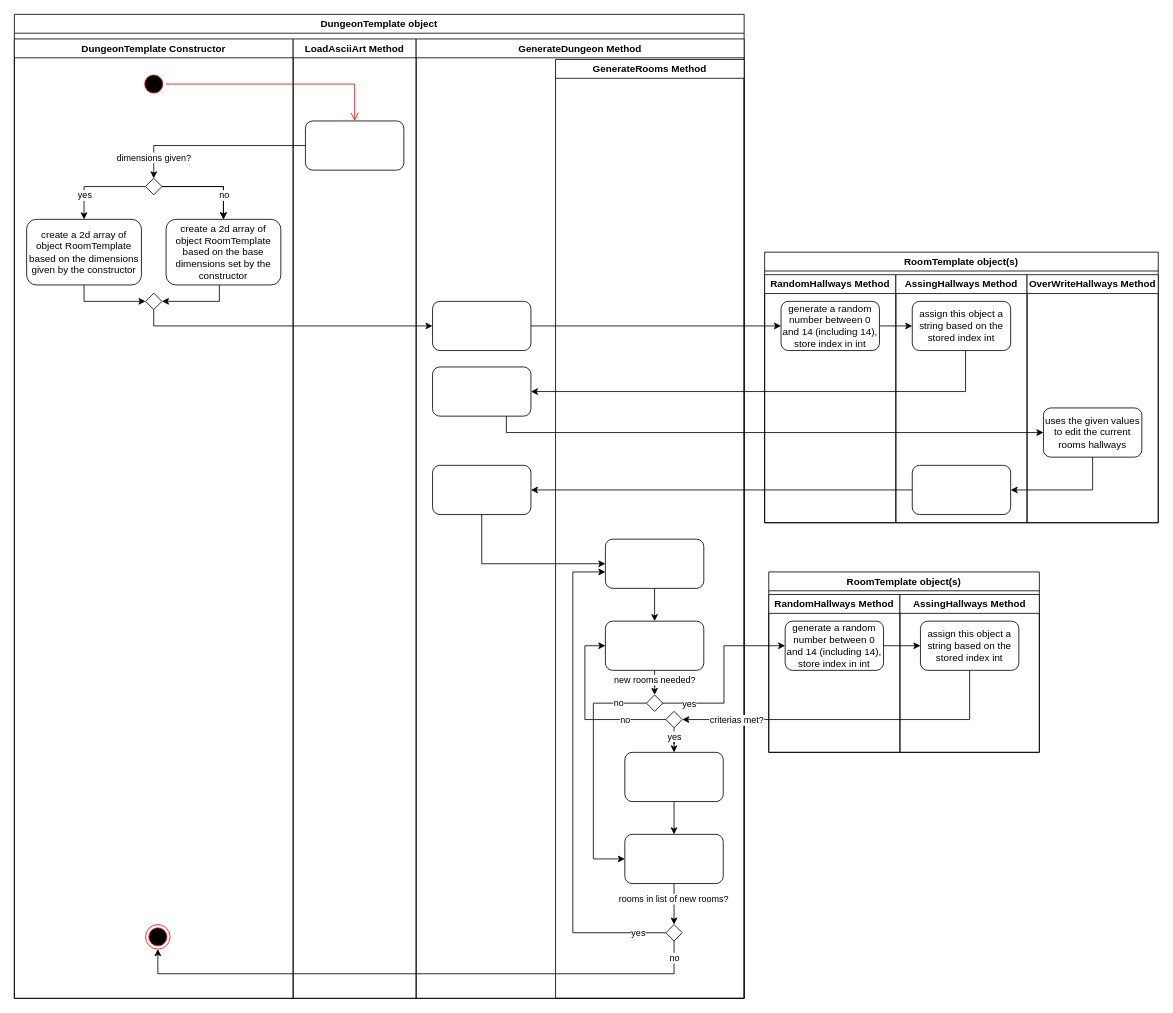
The diagram is 1173 pixels wide and 1013 high, and some of its shapes have lost their labels. Here are the shapes that lost their labels. From the top down, the centre of each, then its label:
At [354,145]: "load text file (containing ascii art) into string array".
At [481,326]: "Create a new RoomTemplate object in middle of the 2d array".
At [481,391]: "overwrite the new objects hallway property".
At [481,490]: "Save the newly created rooms location in list".
At [961,490]: "assign this object a string based a new stored index int".
At [654,563]: "Grab first room from list".
At [654,645]: "Create new rooms around first room from list based on criteria".
At [673,777]: "add newly created rooms to list".
At [673,859]: "remove first room from list".
